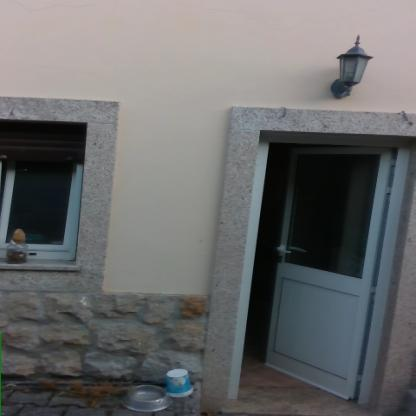semi: (221, 122, 416, 411)
